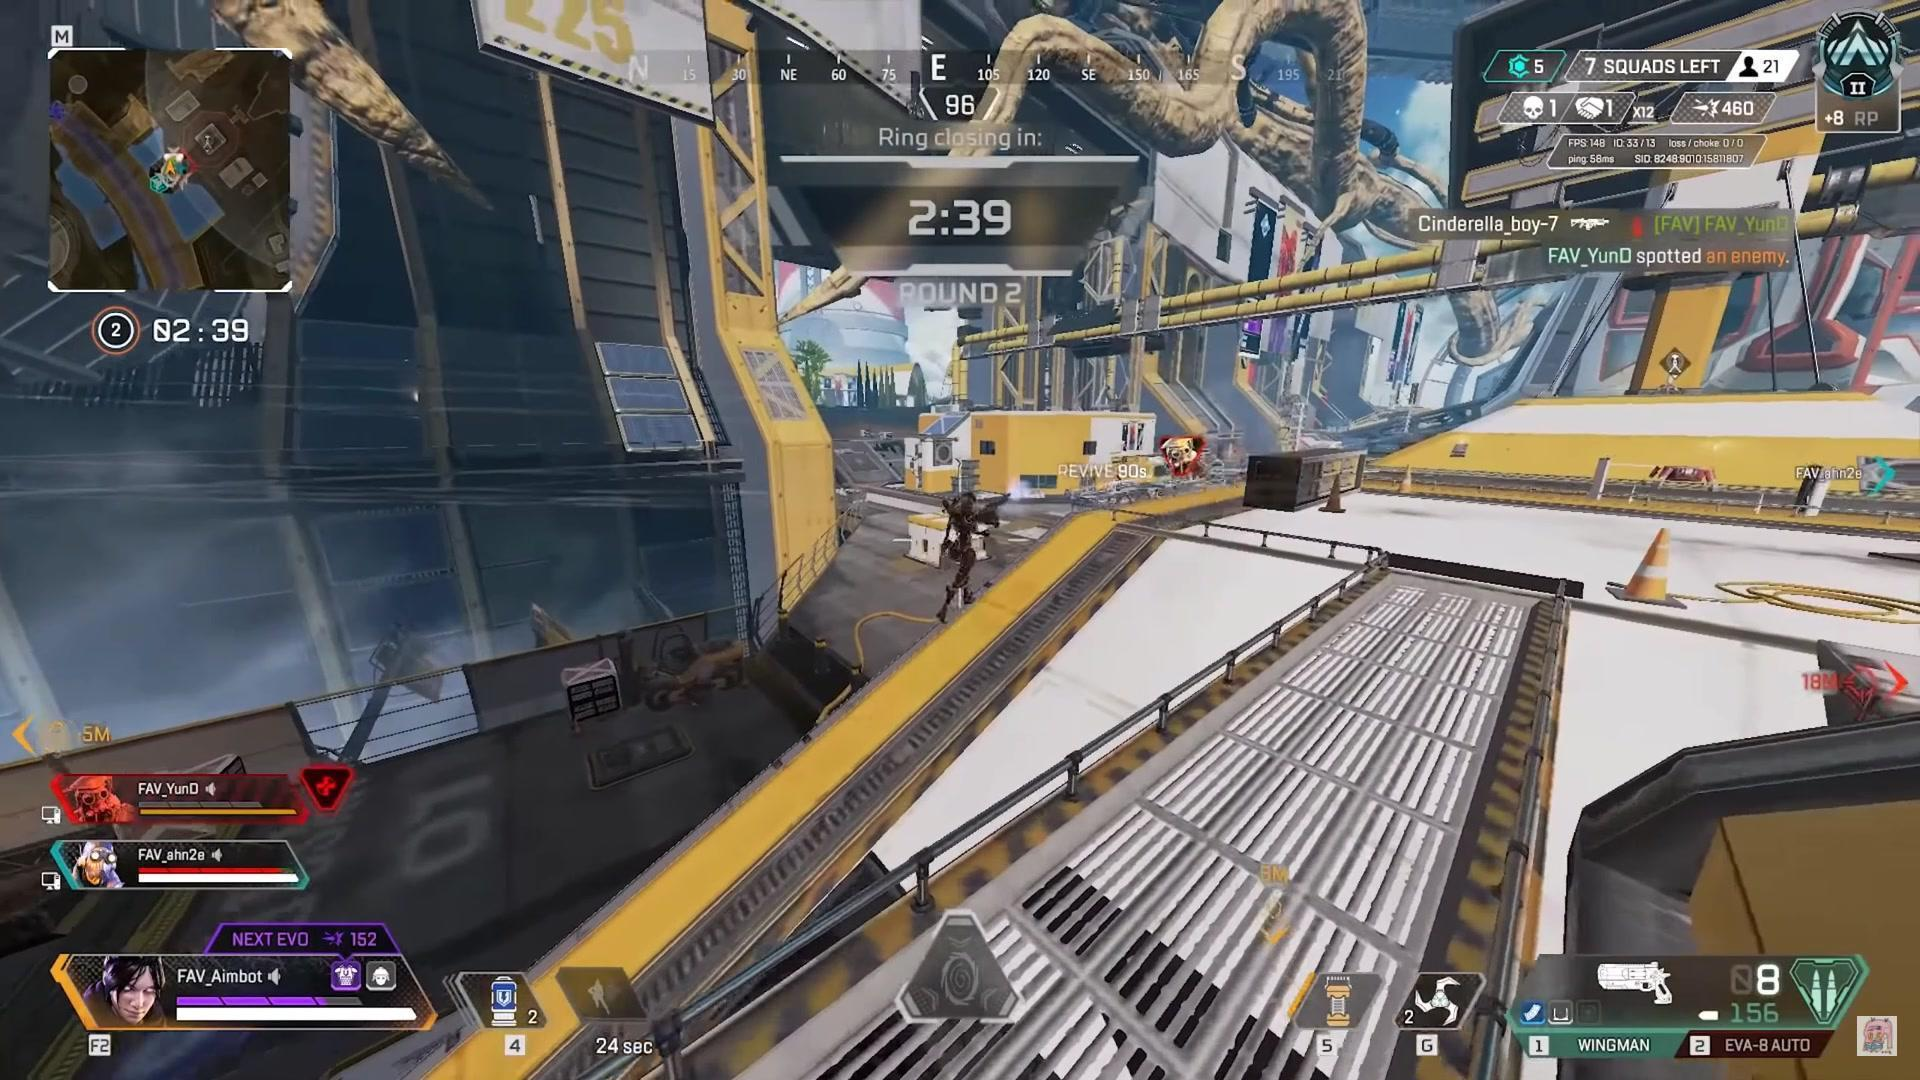avatar: (935, 486, 985, 624)
